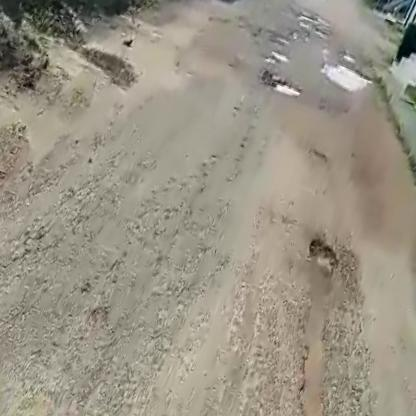pothole: (319, 54, 374, 96), (301, 234, 345, 277), (264, 73, 307, 103)
